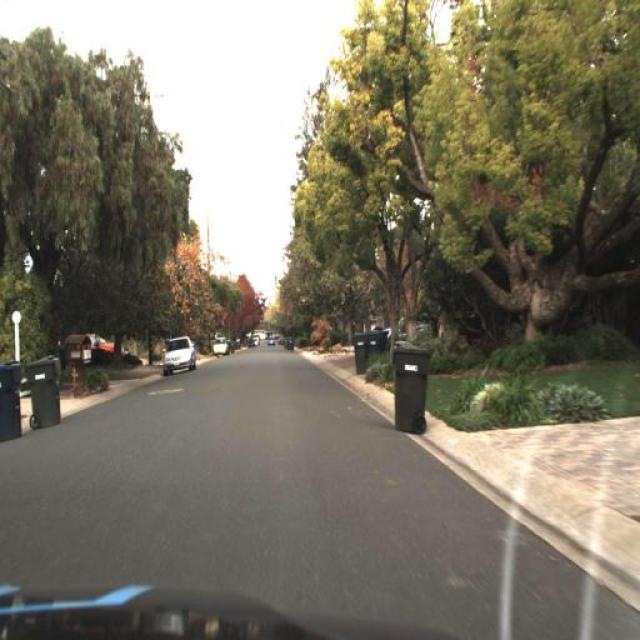car: (160, 334, 200, 375), (80, 330, 126, 360), (163, 336, 195, 376), (76, 327, 123, 352), (211, 334, 230, 356)
